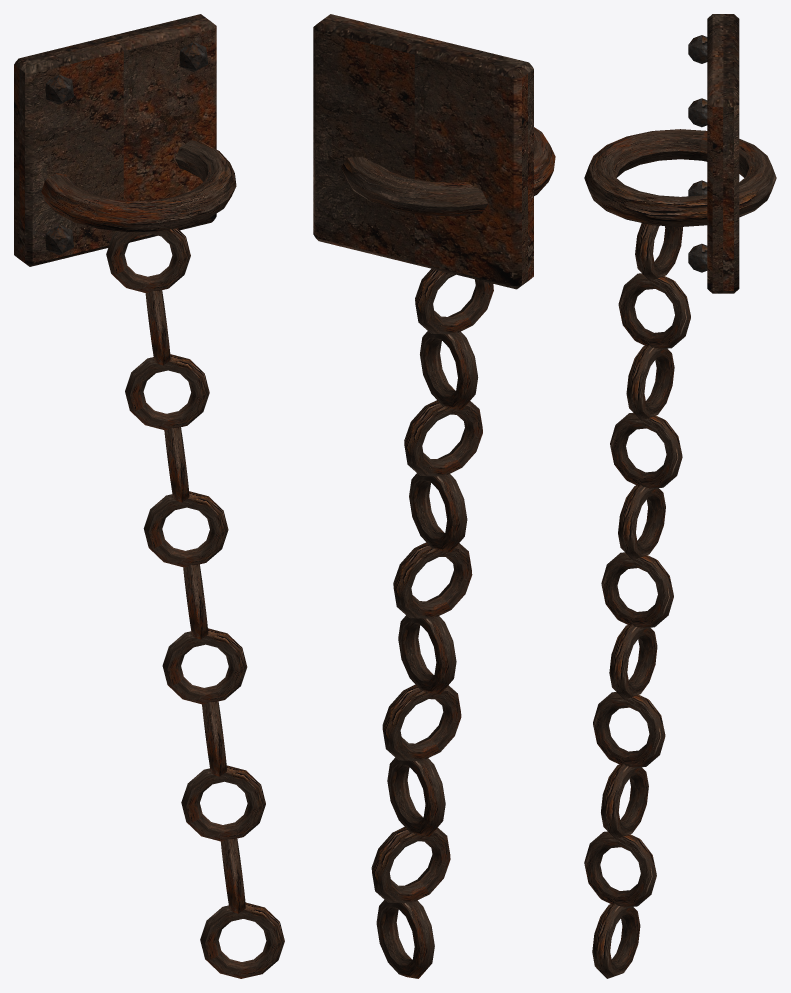
The model's file is chain-ring-v01-photo.glb.
The picture shows the model from 3 angles, left to right: view 1: azimuth 30°, elevation 25°; view 2: azimuth 150°, elevation 25°; view 3: azimuth 270°, elevation 25°; orthographic projection. The views are drawn at different scales.
Parts seen in each view (by area): view 1: chain-ring; view 2: chain-ring; view 3: chain-ring.
Boxes of the visible parts, left/top/right/bottom form: chain-ring: left=14, top=14, right=284, bottom=978; chain-ring: left=313, top=14, right=555, bottom=978; chain-ring: left=584, top=14, right=776, bottom=978.
Bounding box in the file's own units: 0.4177 × 1.83 × 0.36.
2 materials, 2 textured.
